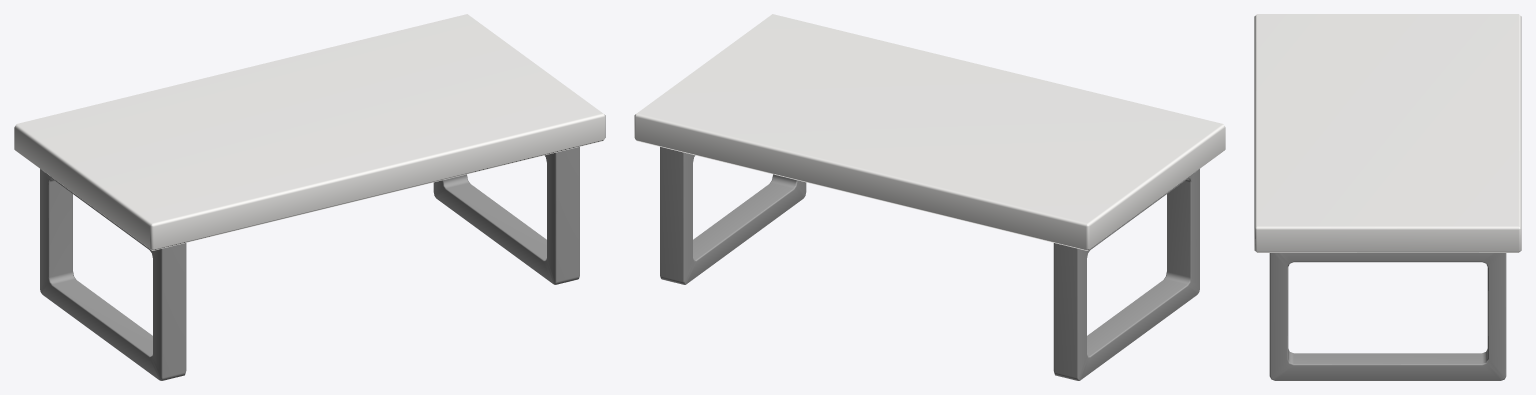
Rendered from LongTable_white.glb.
3 views of the same model, side by side, from view 1: azimuth 30°, elevation 25°; view 2: azimuth 150°, elevation 25°; view 3: azimuth 270°, elevation 25° (orthographic). The views are drawn at different scales.
Parts seen in each view (by area): view 1: Table_5; view 2: Table_5; view 3: Table_5.
Part boxes in pixels (left/top/right/bottom): Table_5: left=14, top=14, right=605, bottom=380; Table_5: left=634, top=14, right=1225, bottom=380; Table_5: left=1254, top=14, right=1521, bottom=380.
Bounding box in the file's own units: 2.42 × 0.8576 × 1.28.
1 material, 1 textured.
